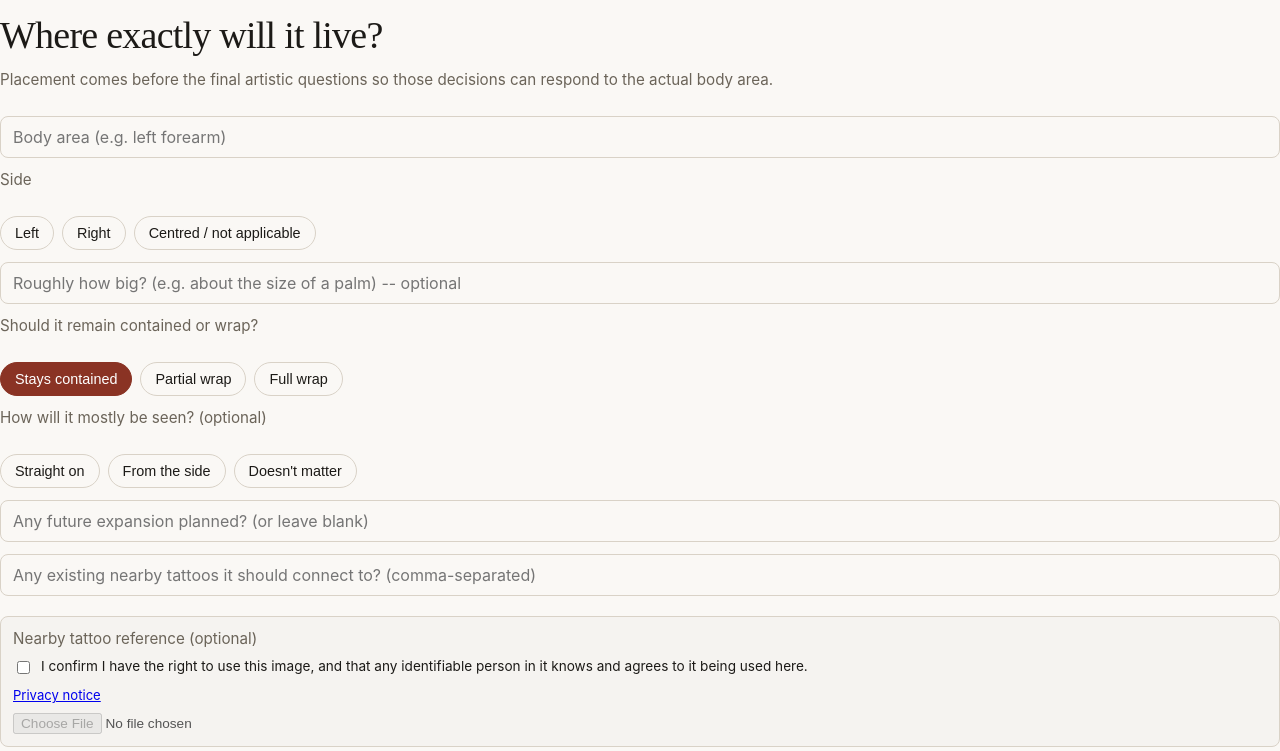
it: Placement -- third-party photo rights checkboxes (two independent upload slots) › checking the nearby-tattoo checkbox enables only that upload, not the placement-photo one
Click the checkbox labelled "I confirm I have the right to use this image" at coordinates (24, 668), box [17,661,30,674]
(page scrolled)
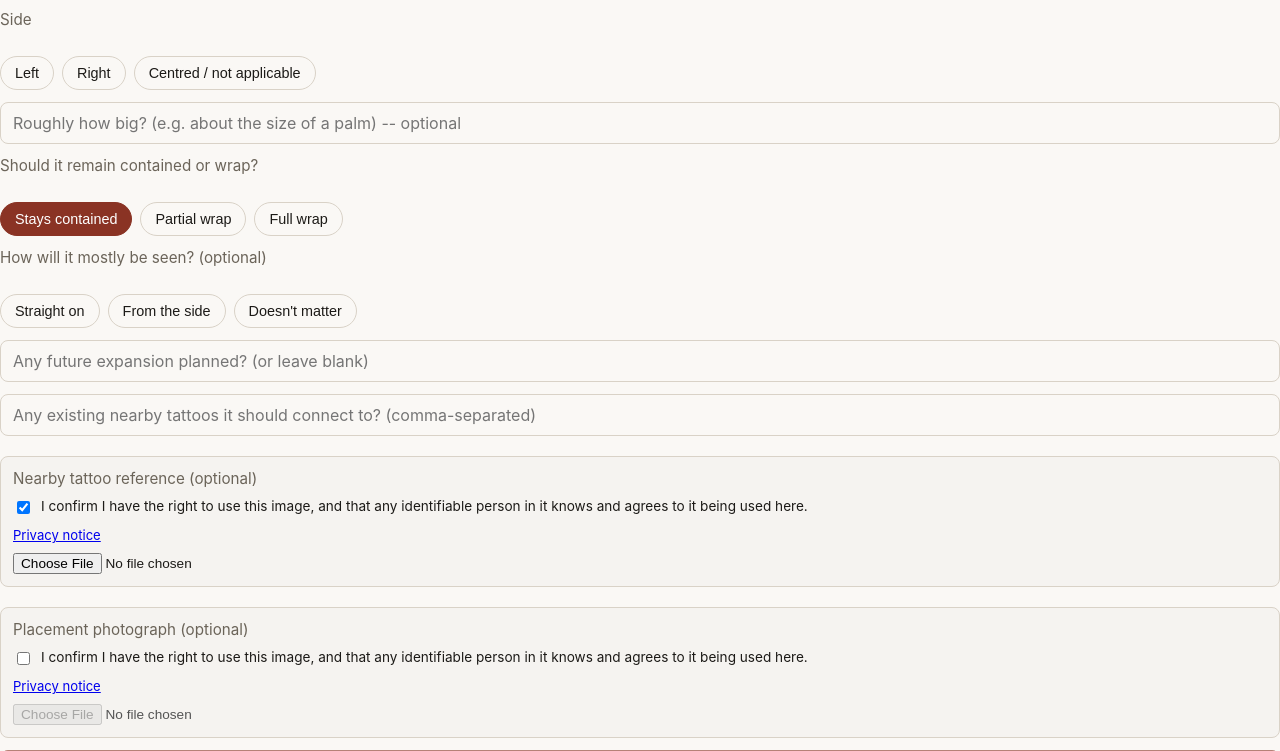
Expected: the file field below "Placement photograph (optional)" is disabled, [13,704,1267,725]
Expected: the file field below "Nearby tattoo reference (optional)" is enabled, [13,553,1267,574]
